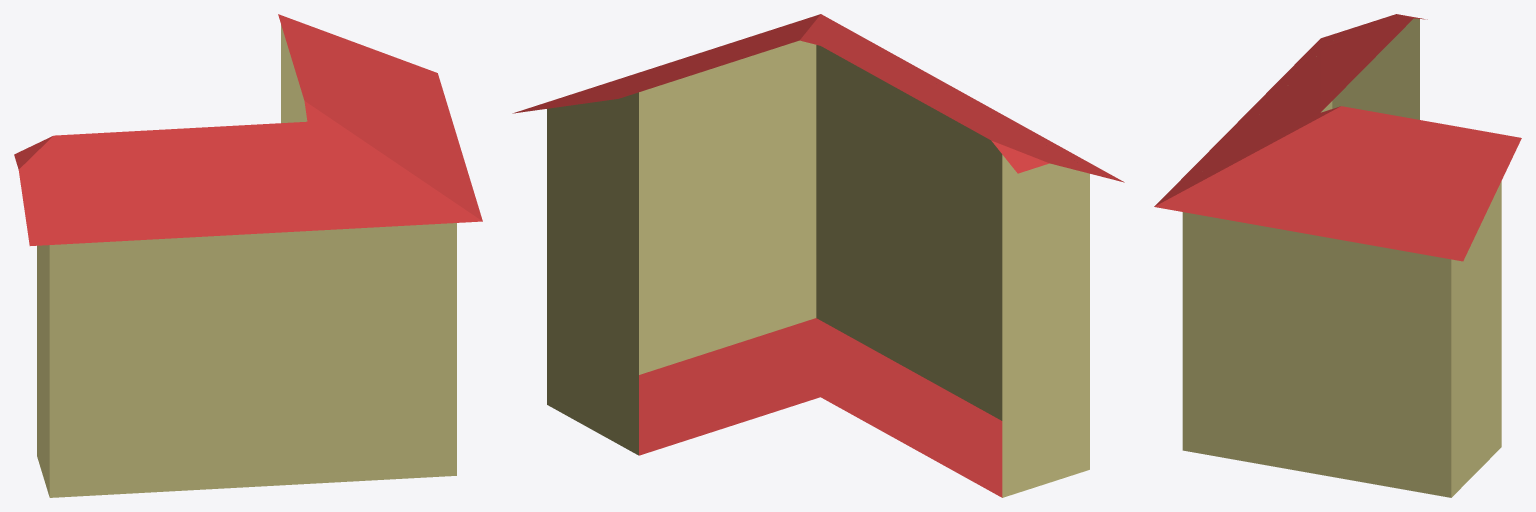
3 views of the same model, side by side, from view 1: azimuth 30°, elevation 25°; view 2: azimuth 150°, elevation 25°; view 3: azimuth 270°, elevation 25° (orthographic). The views are drawn at different scales.
Bounding box in the file's own units: 12.06 × 8.4 × 7.88.
